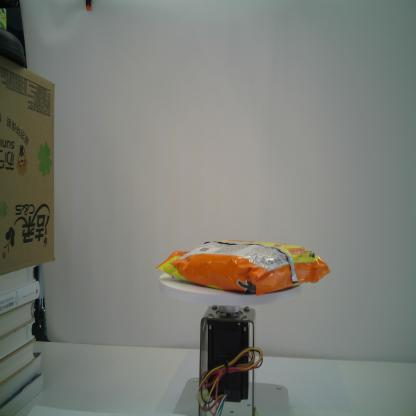Instant Noodles: (155, 239, 332, 297)
